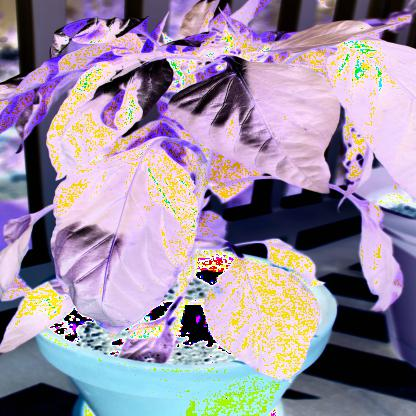bell pepper leaf: (53, 145, 202, 326), (165, 56, 340, 195), (198, 257, 323, 382)
